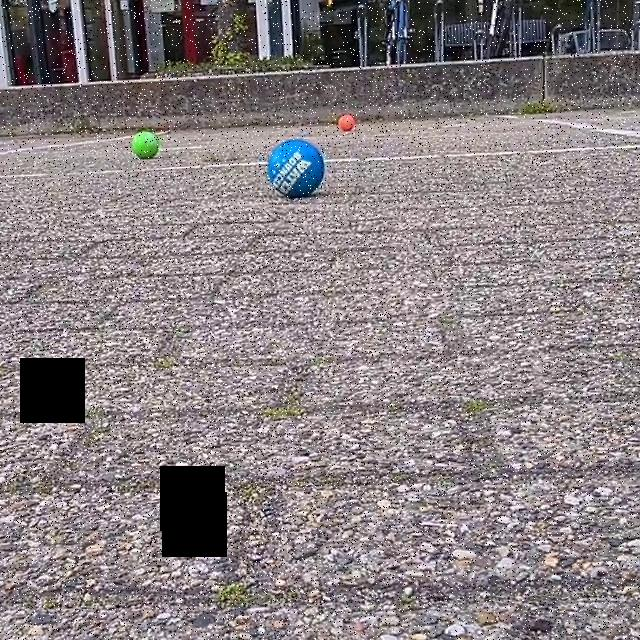ball: (128, 128, 162, 163), (338, 109, 358, 136)
